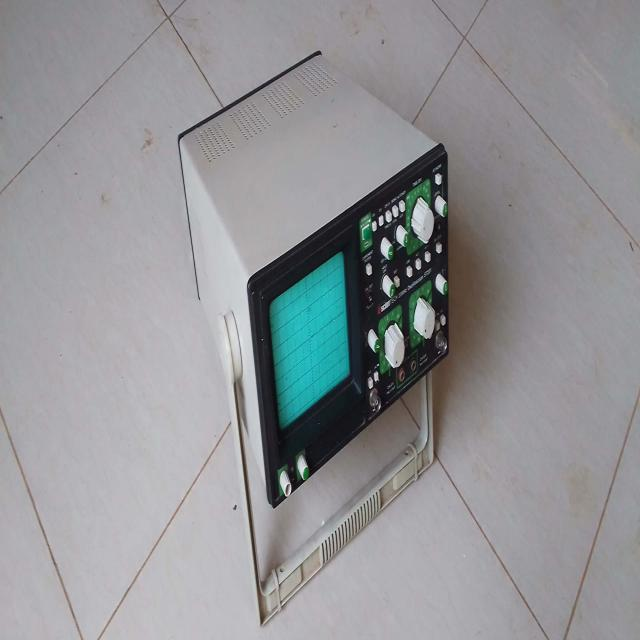Cathode Ray Oscilloscope: (162, 104, 460, 613)
